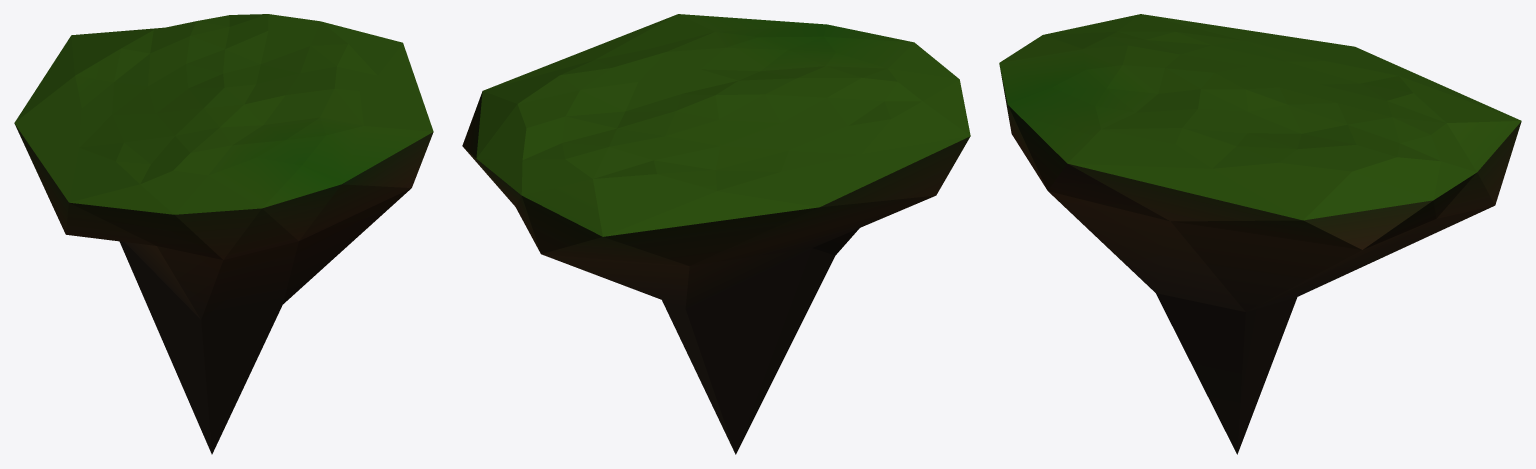
Rendered from big_island.fbx.
3 renders of one model, left to right at view 1: azimuth 30°, elevation 25°; view 2: azimuth 150°, elevation 25°; view 3: azimuth 270°, elevation 25°, orthographic. The views are drawn at different scales.
Parts seen in each view (by area): view 1: big_island; view 2: big_island; view 3: big_island.
Boxes of the visible parts, box(x1,y1,x2,y2) form: big_island: box(14, 14, 433, 454); big_island: box(462, 14, 970, 454); big_island: box(999, 14, 1521, 454).
Size of the model in its own units: 7.08 by 5.95 by 7.5.
